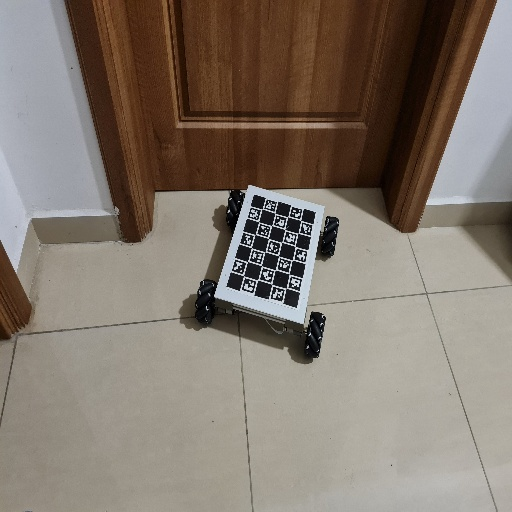Omniwheel: (193, 184, 341, 360)
